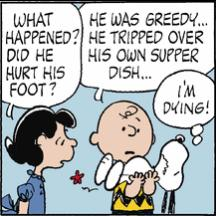charlie: (88, 98, 160, 214)
snoopy: (92, 132, 190, 214)
